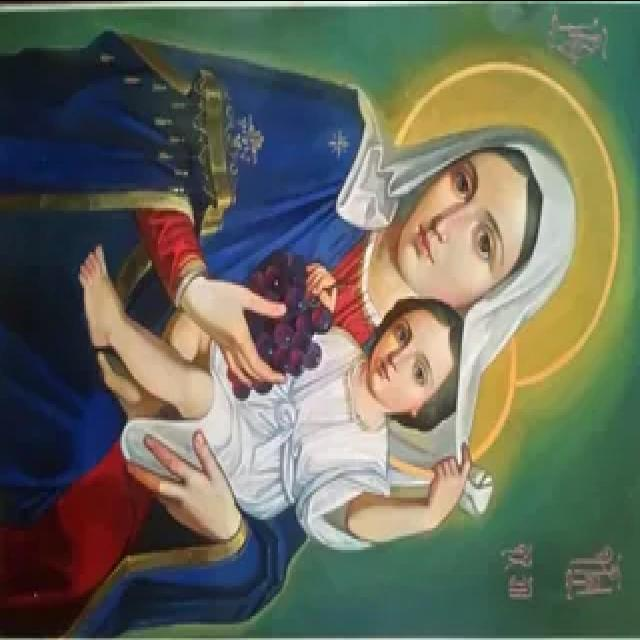mother of god: (0, 0, 592, 640)
